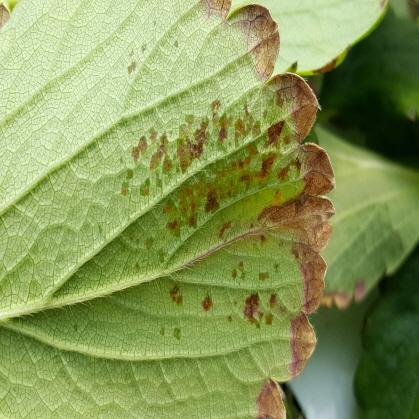Angular Leafspot: (89, 13, 326, 343)
